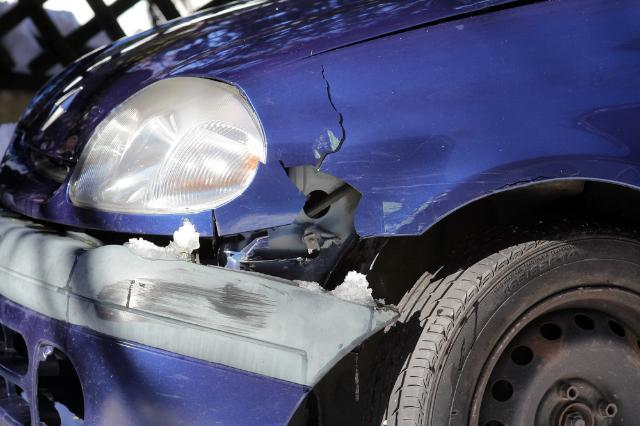crack: (313, 56, 350, 172), (483, 173, 568, 194)
dent: (356, 137, 454, 238)
dislocated part: (2, 213, 397, 426)
no part: (285, 167, 362, 234)
scratch: (94, 278, 282, 336)
